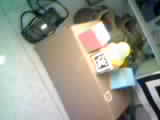duck: (93, 28, 138, 66)
